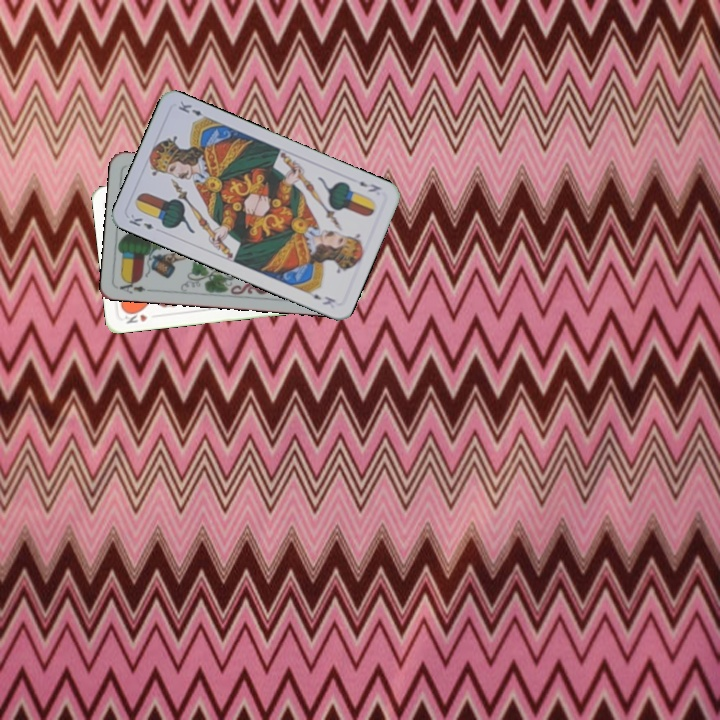EA: (115, 276, 155, 296)
EK: (125, 210, 156, 232), (355, 177, 384, 195)
HK: (119, 306, 150, 326)
